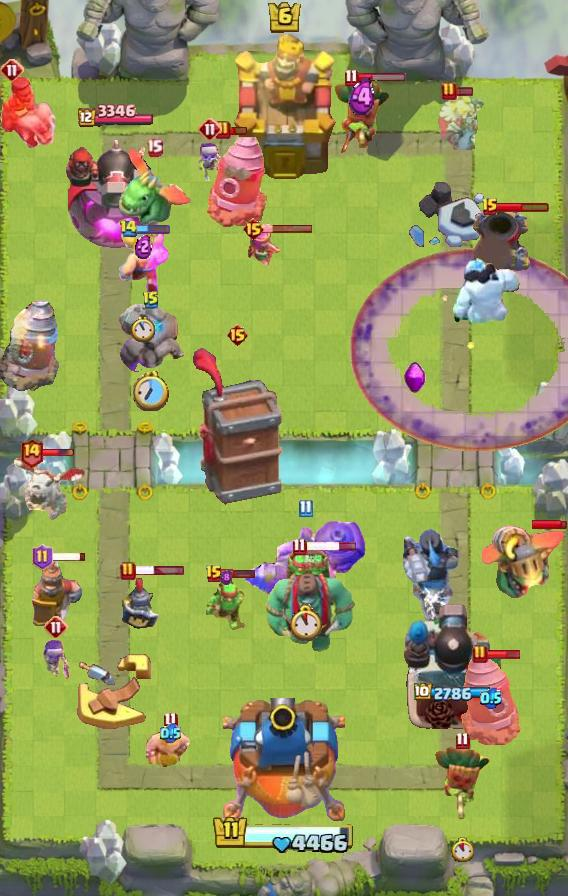archer: (146, 727, 194, 771)
cannon: (246, 227, 292, 271)
clock: (212, 814, 356, 856)
dart-goblin: (193, 347, 283, 505)
earthquake: (23, 553, 83, 627)
electro-spirit: (348, 78, 376, 118), (480, 687, 502, 709), (135, 233, 153, 259), (160, 723, 181, 744), (220, 570, 232, 585)
electro-wizard: (114, 145, 194, 227)
elite-barbarian: (0, 74, 60, 150)
elixir: (133, 371, 169, 411), (287, 604, 324, 642), (131, 316, 155, 342), (450, 838, 473, 863)
emote: (305, 540, 359, 552), (497, 201, 550, 213), (262, 222, 314, 233), (133, 565, 185, 576), (356, 73, 407, 84), (135, 223, 171, 235), (532, 519, 568, 531), (220, 568, 256, 580), (49, 551, 86, 562), (486, 649, 522, 660), (41, 448, 75, 458), (228, 124, 248, 135), (454, 87, 473, 98)
giant-snowball: (206, 578, 246, 632)
goblin: (194, 141, 226, 183), (40, 638, 72, 680)
goblin-barrel: (332, 74, 392, 154), (432, 744, 492, 820)
goblin-giant: (118, 228, 170, 294)
inferno-dragon: (400, 526, 460, 622)
king-tower: (223, 698, 345, 826), (231, 35, 337, 182)
lava-hound: (263, 544, 357, 654)
magic-archer: (203, 132, 269, 230), (458, 651, 524, 749), (0, 300, 60, 392)
mini-pekka: (9, 456, 87, 524)
mortar-evolution: (433, 88, 487, 150)
musketeer: (470, 207, 532, 275)
night-witch: (466, 525, 568, 601)
princess: (112, 575, 162, 633)
rage: (452, 257, 522, 323)
rocket: (350, 248, 568, 452)
selected: (75, 103, 153, 128), (414, 683, 494, 703)
skeleton-king-skill: (404, 361, 427, 395)
text: (20, 436, 44, 467), (0, 58, 24, 82), (198, 117, 222, 141), (44, 615, 68, 639), (242, 217, 265, 241), (226, 323, 249, 347), (32, 544, 53, 570), (118, 218, 138, 237), (481, 197, 499, 217), (142, 290, 160, 310), (205, 564, 223, 584), (146, 139, 163, 158), (441, 81, 457, 101), (215, 120, 231, 140), (120, 561, 136, 581), (472, 644, 488, 664), (344, 69, 359, 88), (298, 498, 313, 517), (163, 710, 178, 729), (454, 731, 469, 749), (293, 537, 307, 555)
tower-bar: (60, 132, 167, 256), (403, 601, 503, 731)
valkyrie-evolution: (116, 304, 186, 372)
wizard: (243, 520, 367, 598)
